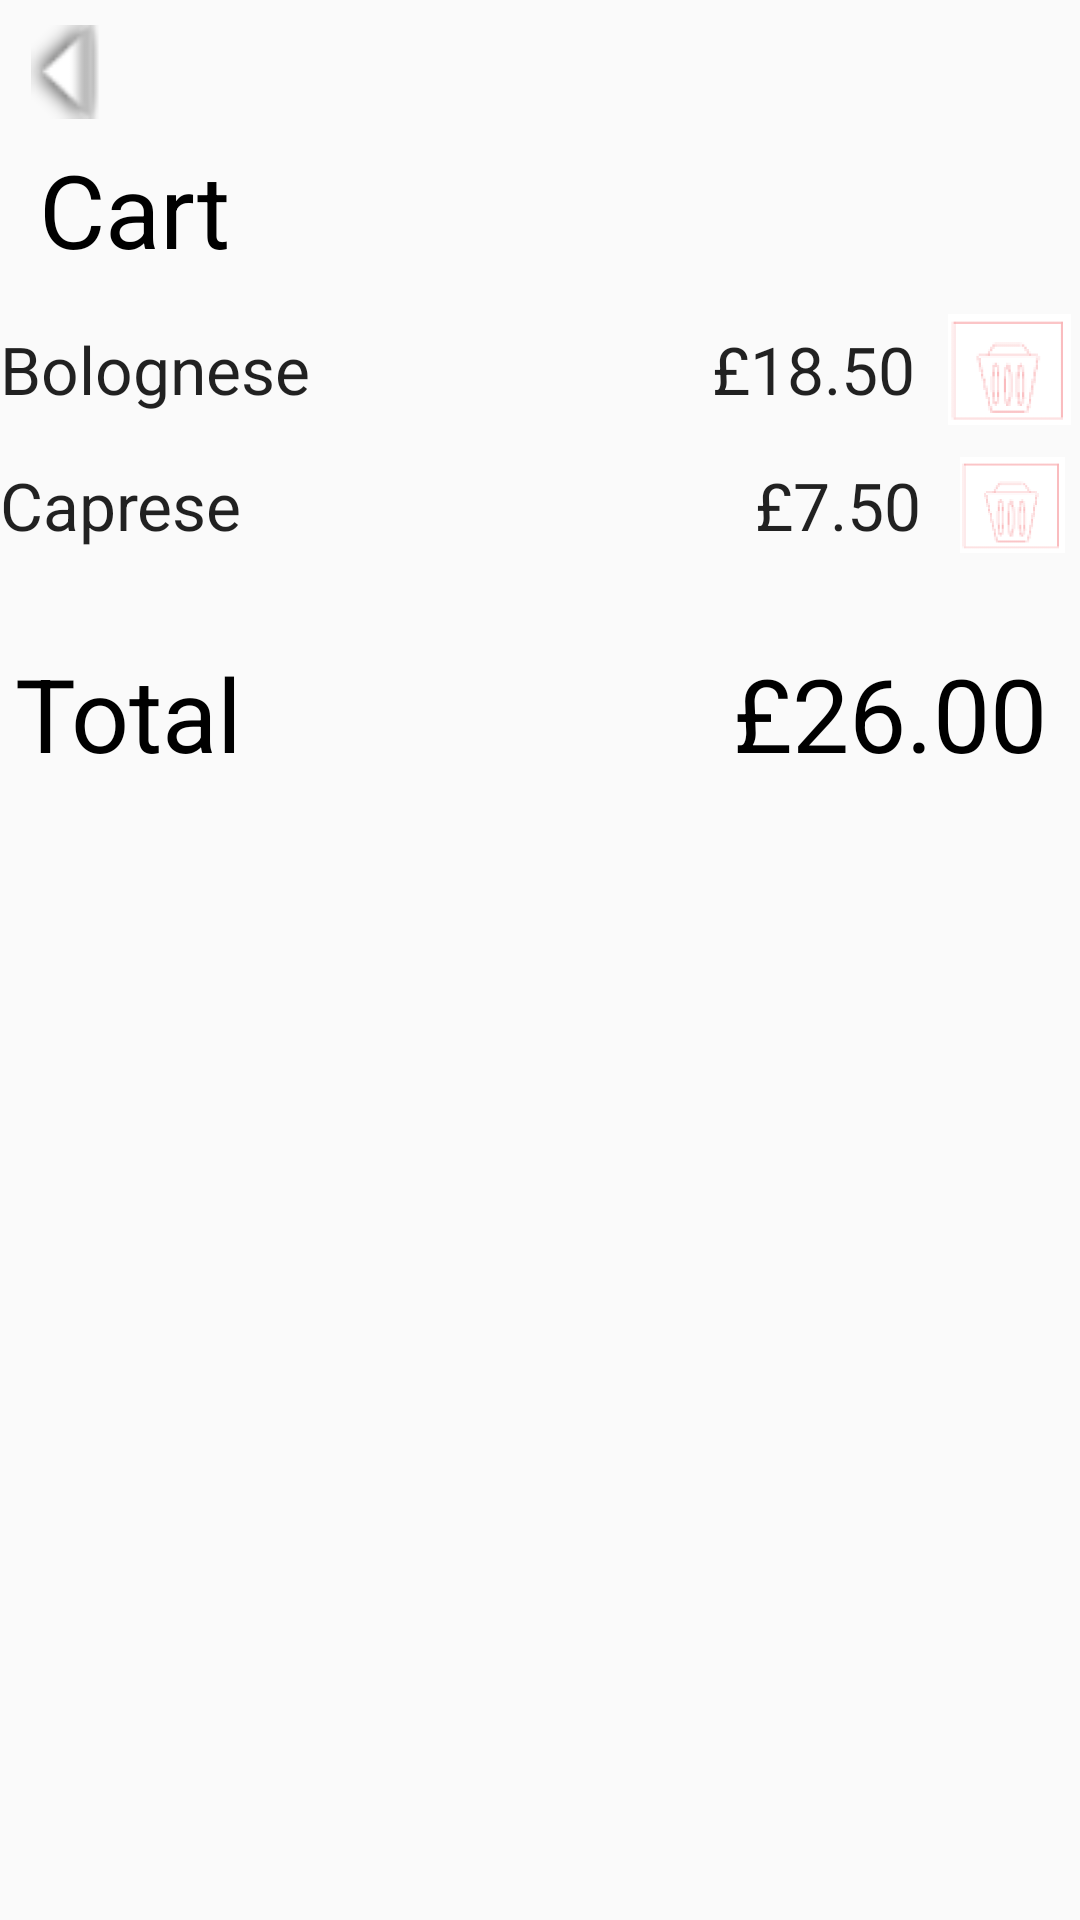

Icon click points for this 1080×1920 phone screenshot, format [x,y]:
bin: [1008,370], [1011,505]
